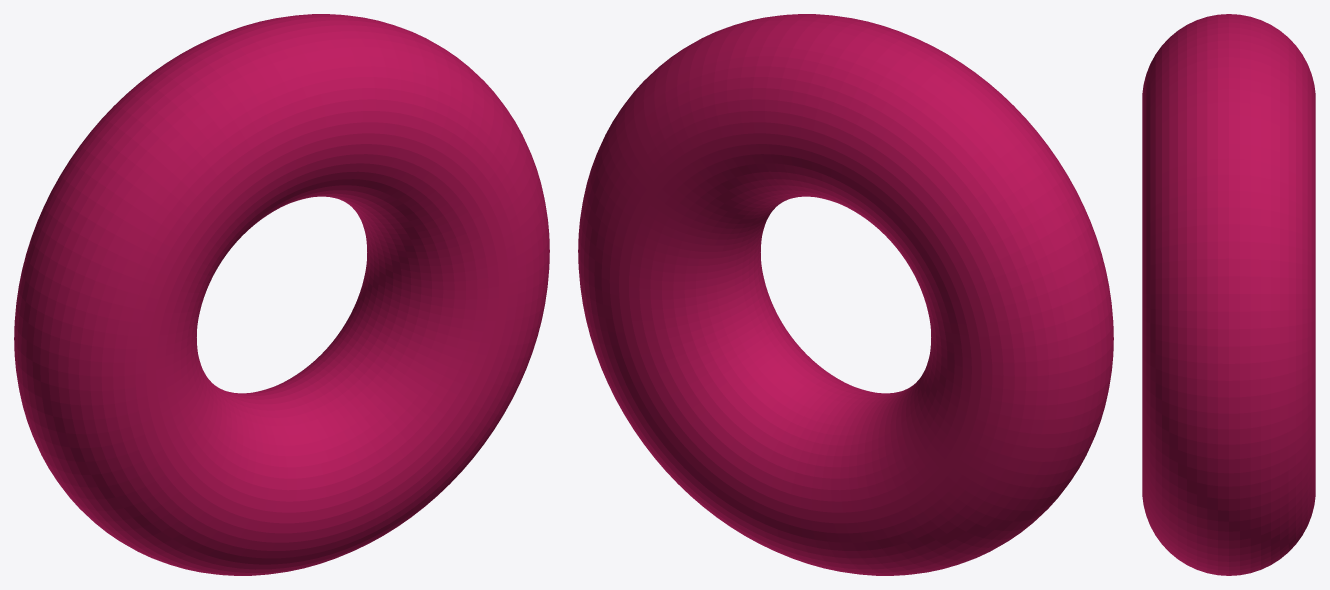
3 renders of one model, left to right at view 1: azimuth 30°, elevation 25°; view 2: azimuth 150°, elevation 25°; view 3: azimuth 270°, elevation 25°, orthographic. The views are drawn at different scales.
Parts seen in each view (by area): view 1: world; view 2: world; view 3: world.
Part boxes in pixels (bbox=[...]): world: bbox=[14, 14, 549, 575]; world: bbox=[578, 14, 1113, 575]; world: bbox=[1142, 14, 1315, 575].
Bounding box in the file's own units: 28 × 28 × 8.65.
